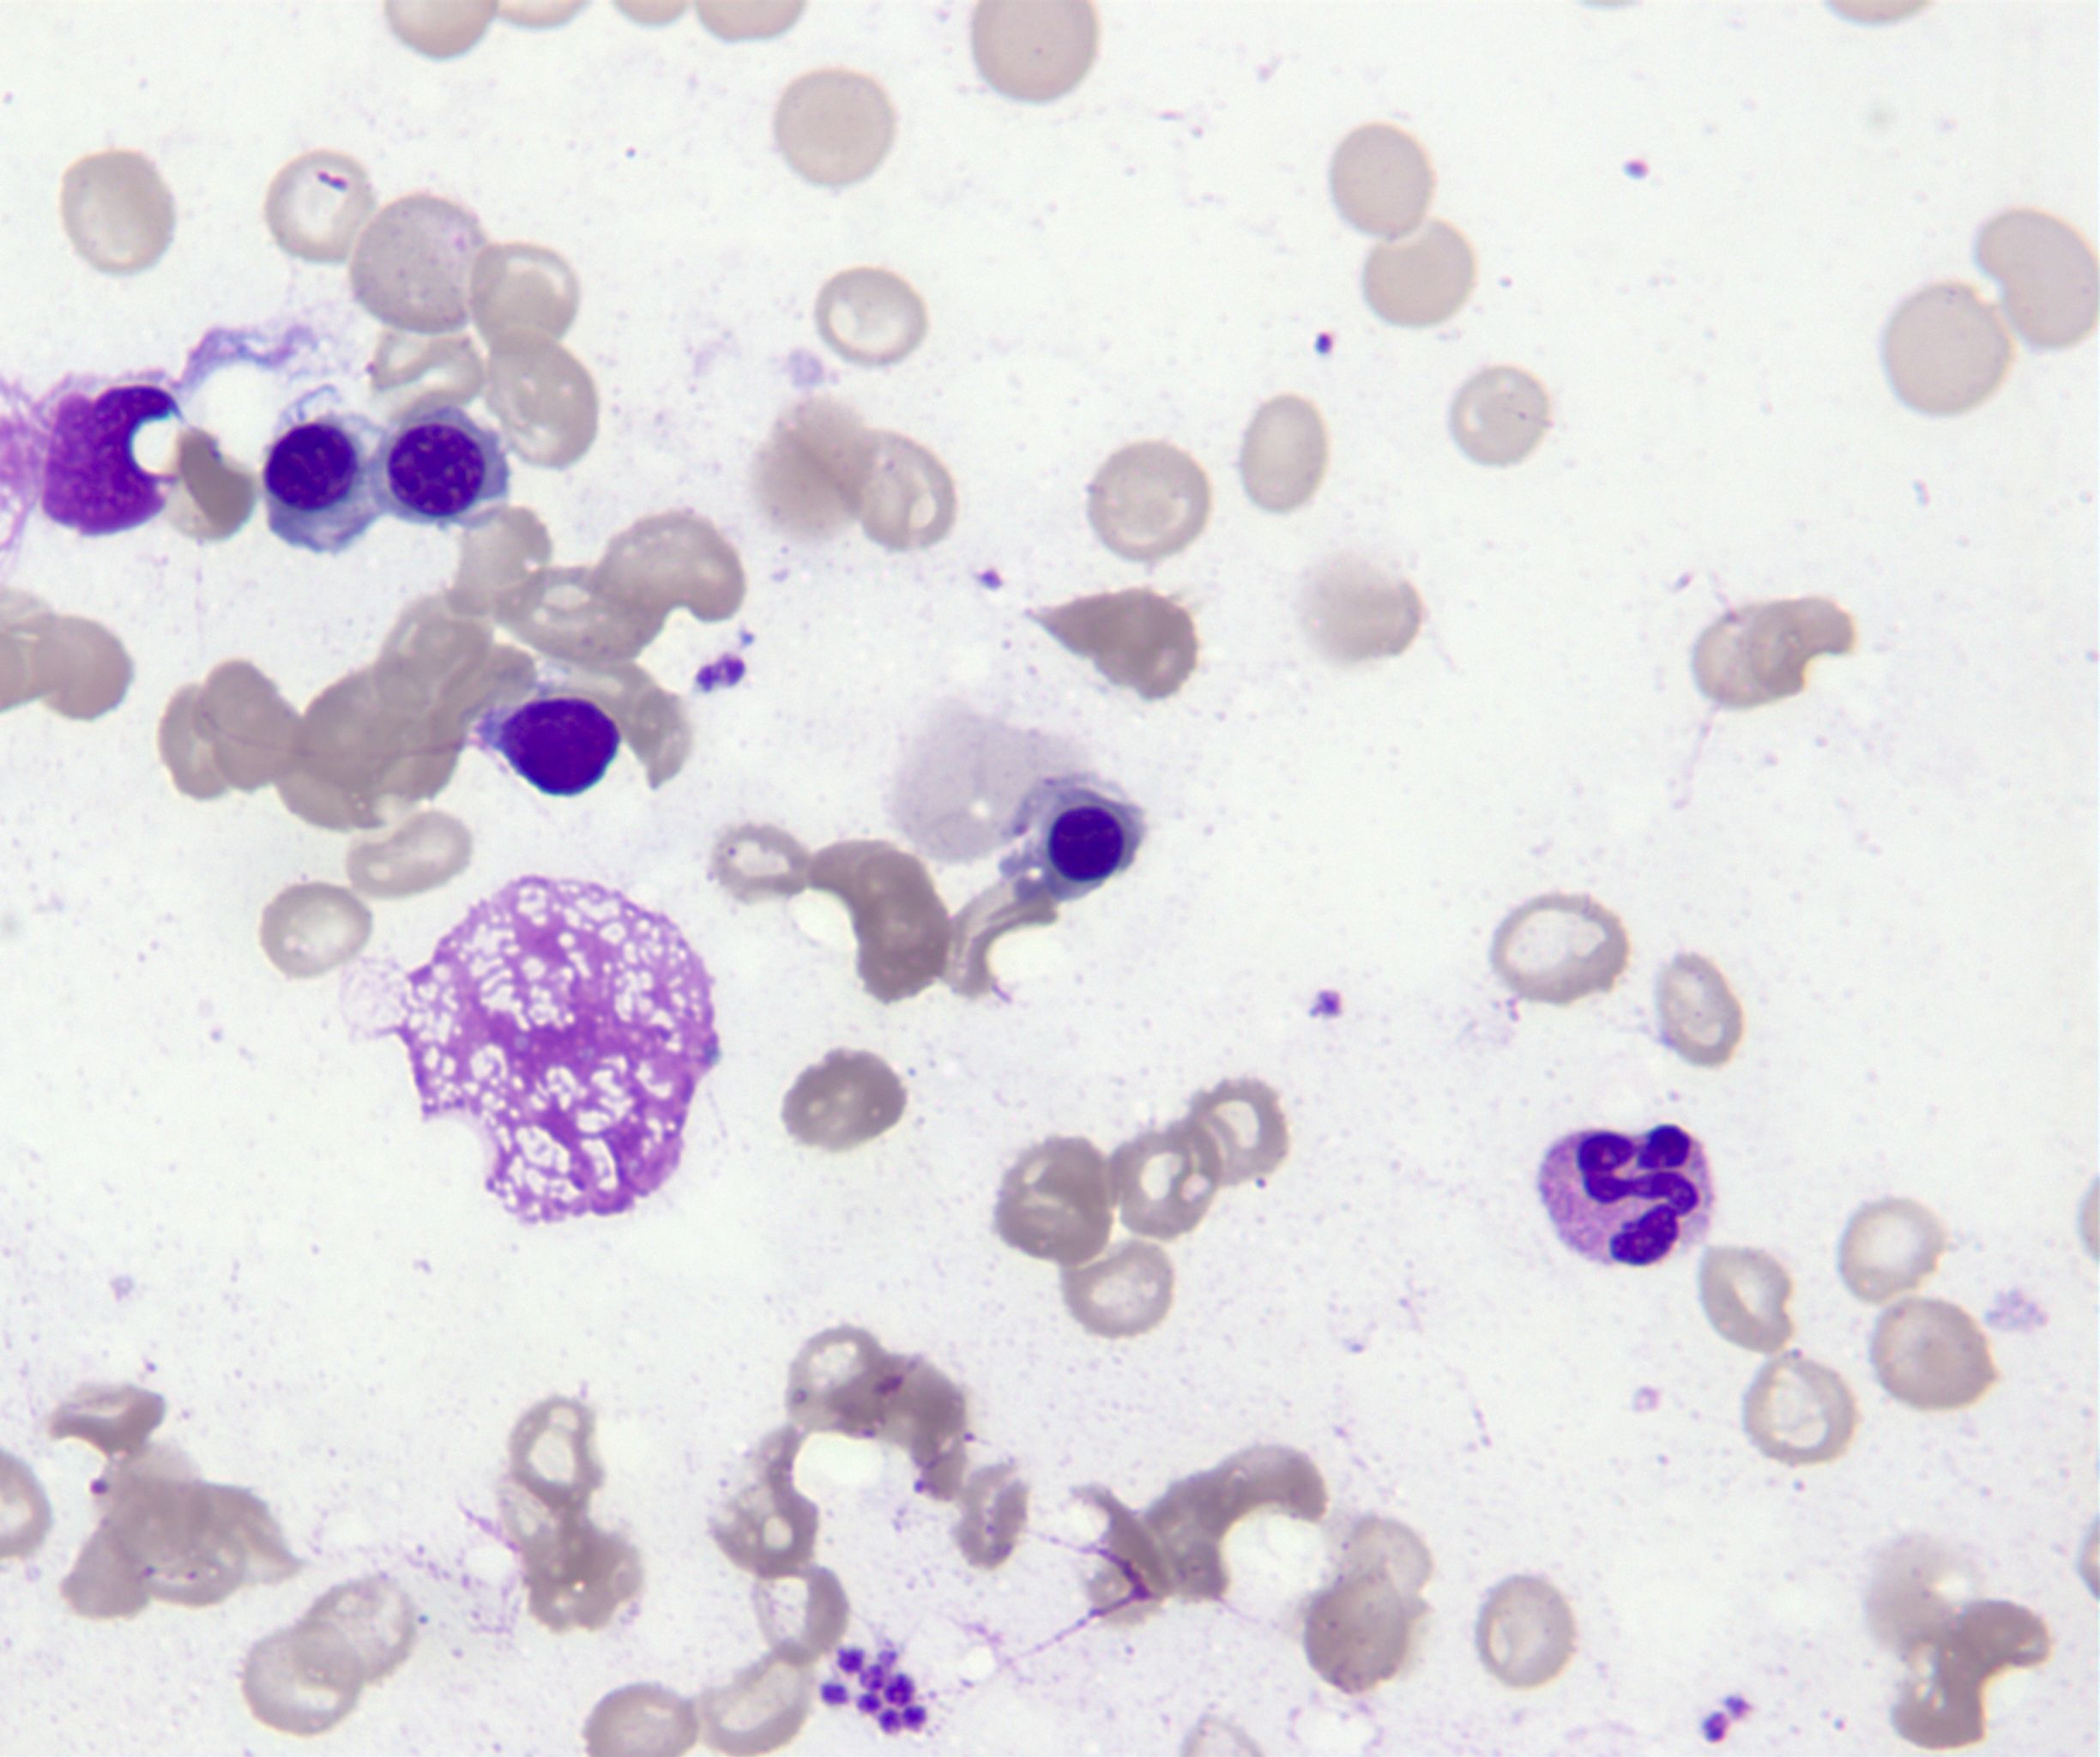24: (262, 386, 385, 555), (999, 773, 1146, 902), (368, 403, 509, 527)
32: (473, 686, 621, 797)
6: (1540, 1127, 1715, 1267)
x: (338, 878, 715, 1228), (2, 370, 183, 555)
